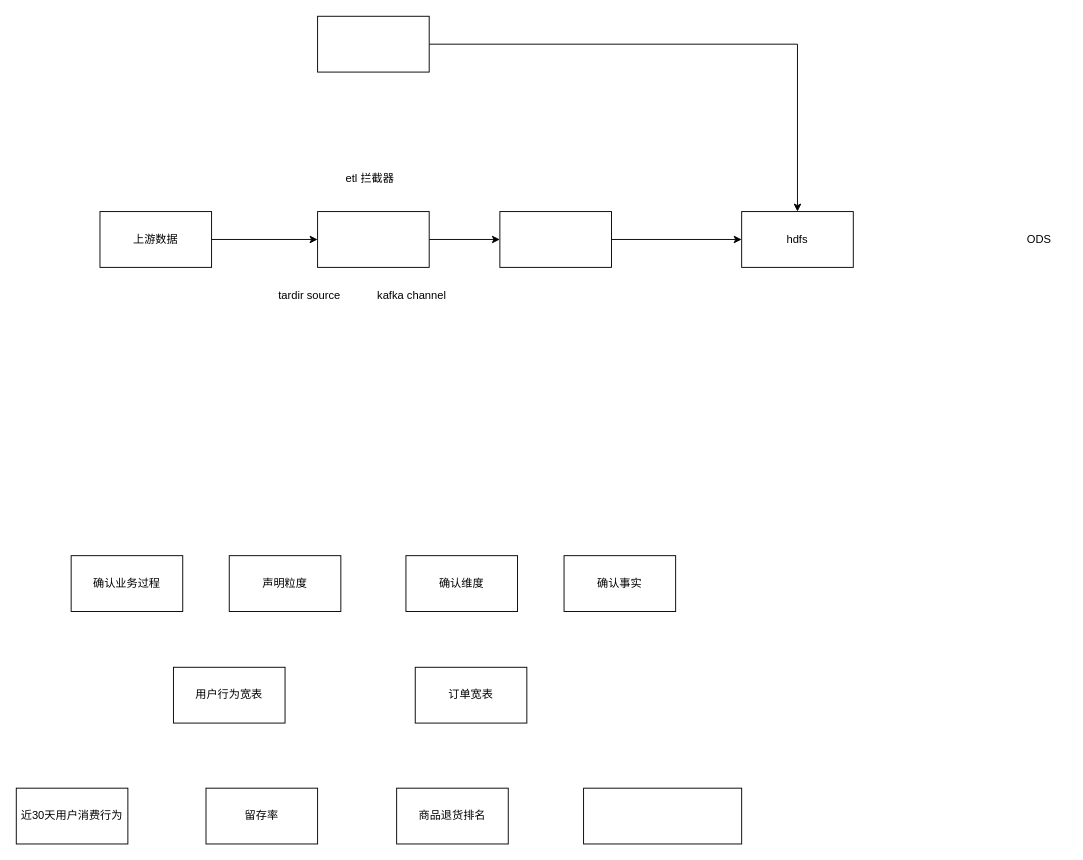
Image size: 1083x860. Some labels were removed from this diagram. Each missing label, with the centre of its shape:
"flume" goes at point 373,239.
"kafka" goes at point 555,239.
"mysql<业务数据>" goes at point 373,43.
"一周内连续三天消费的用户" goes at point 662,815.
